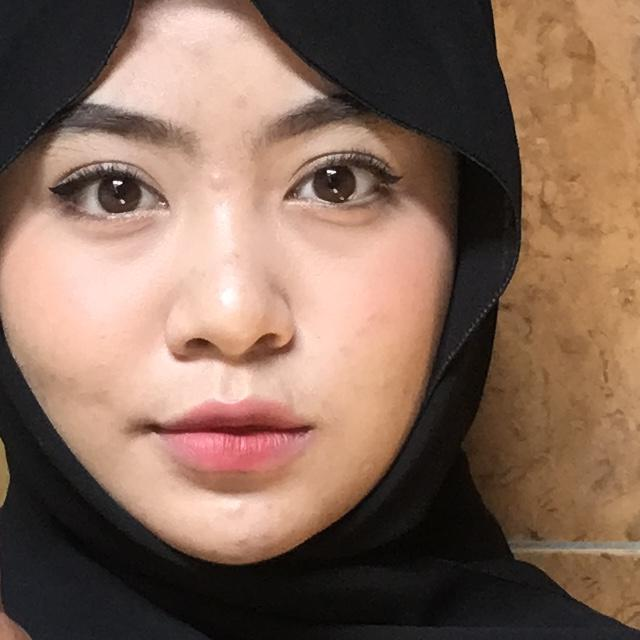kamu: (0, 356, 325, 640)
